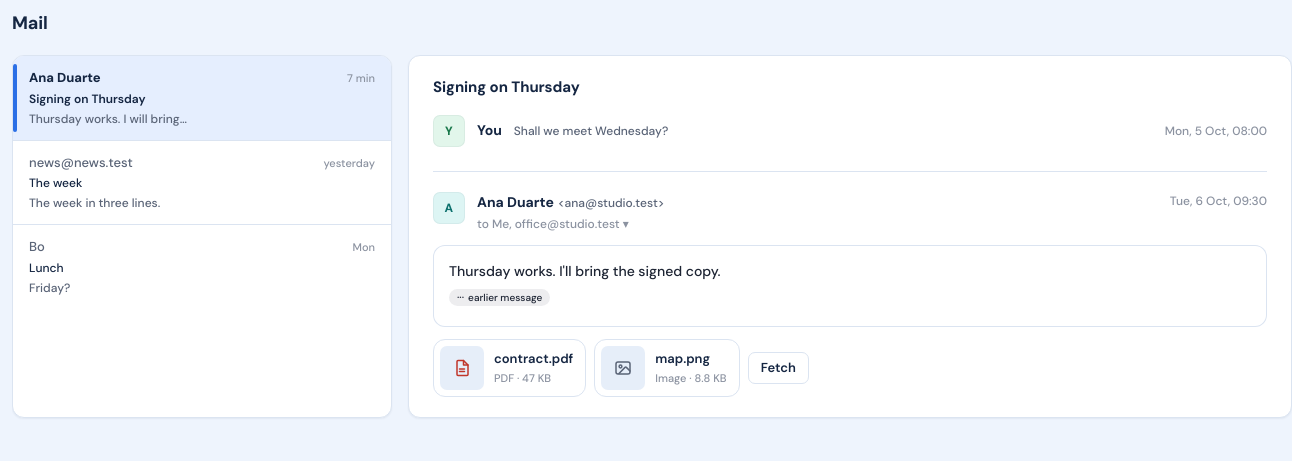
Test: the reading pane › keeps an older message to one line, and reads its body only when it is opened
Expected: the text "Shall we meet Wednesday?" is shown, [514, 123, 668, 139]
Click the button with aria-label "Open the message from You".
click(449, 131)  # box [433, 111, 1267, 151]
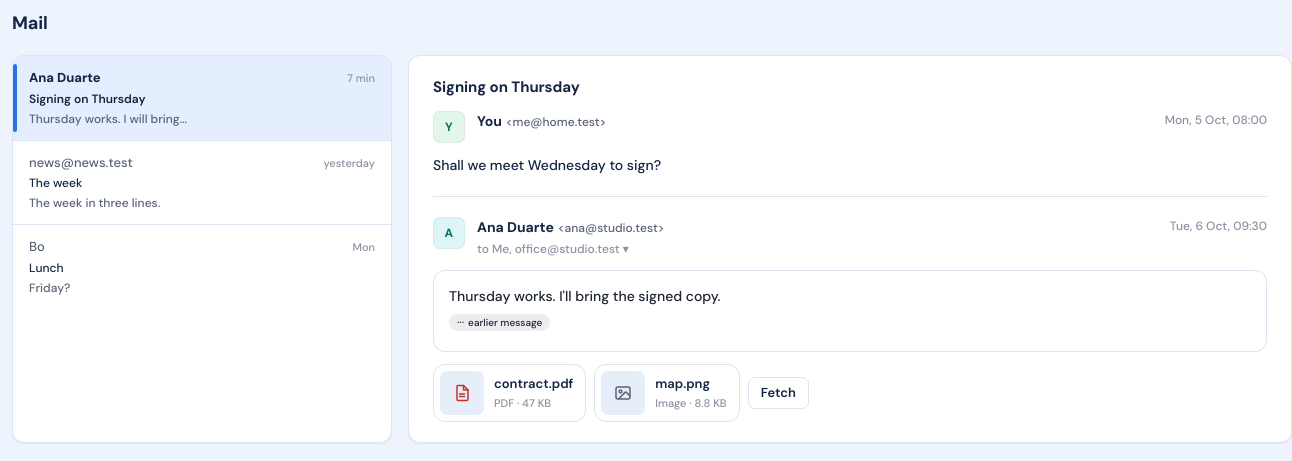
Result: the text "Shall we meet Wednesday to sign?" is shown at [433, 156, 661, 174]
